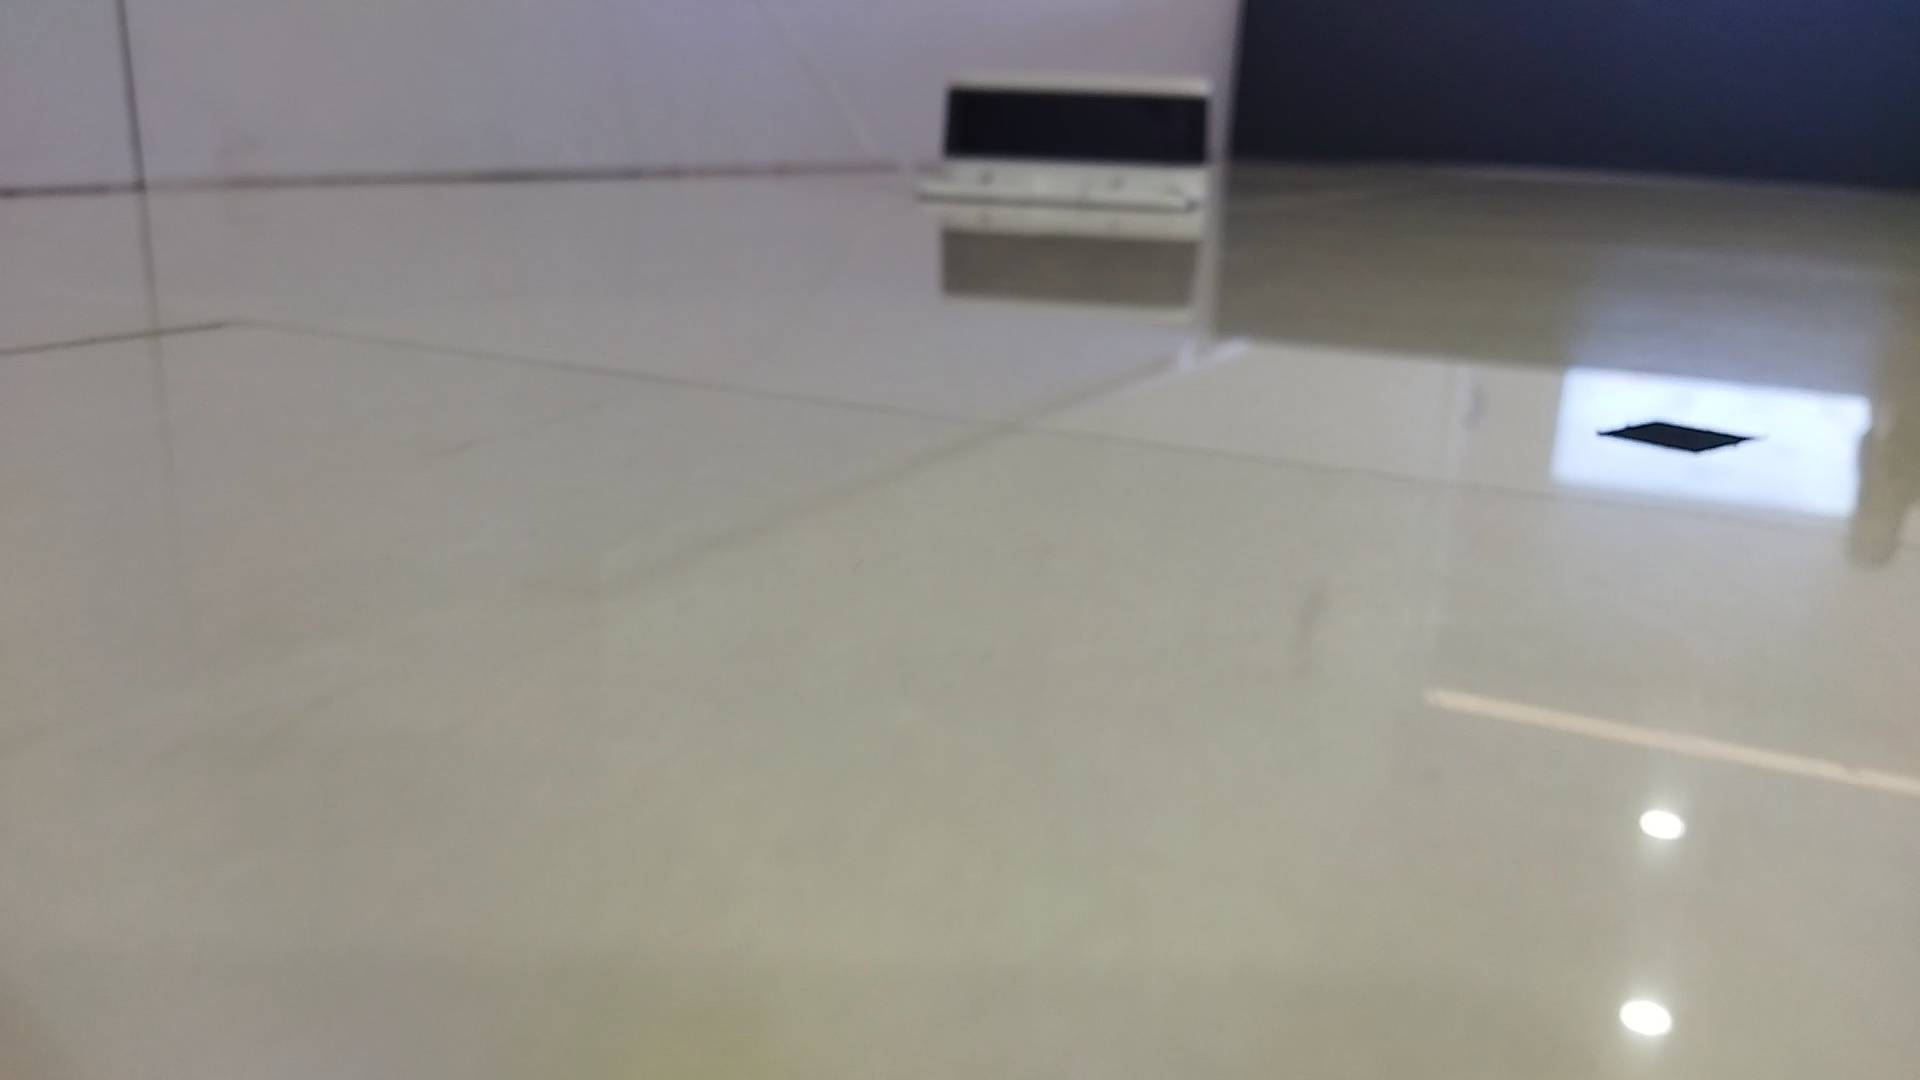recharge seat: (914, 67, 1215, 211)
